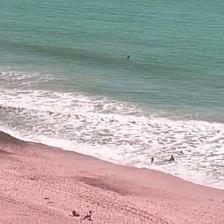surfer: (126, 55, 130, 58)
